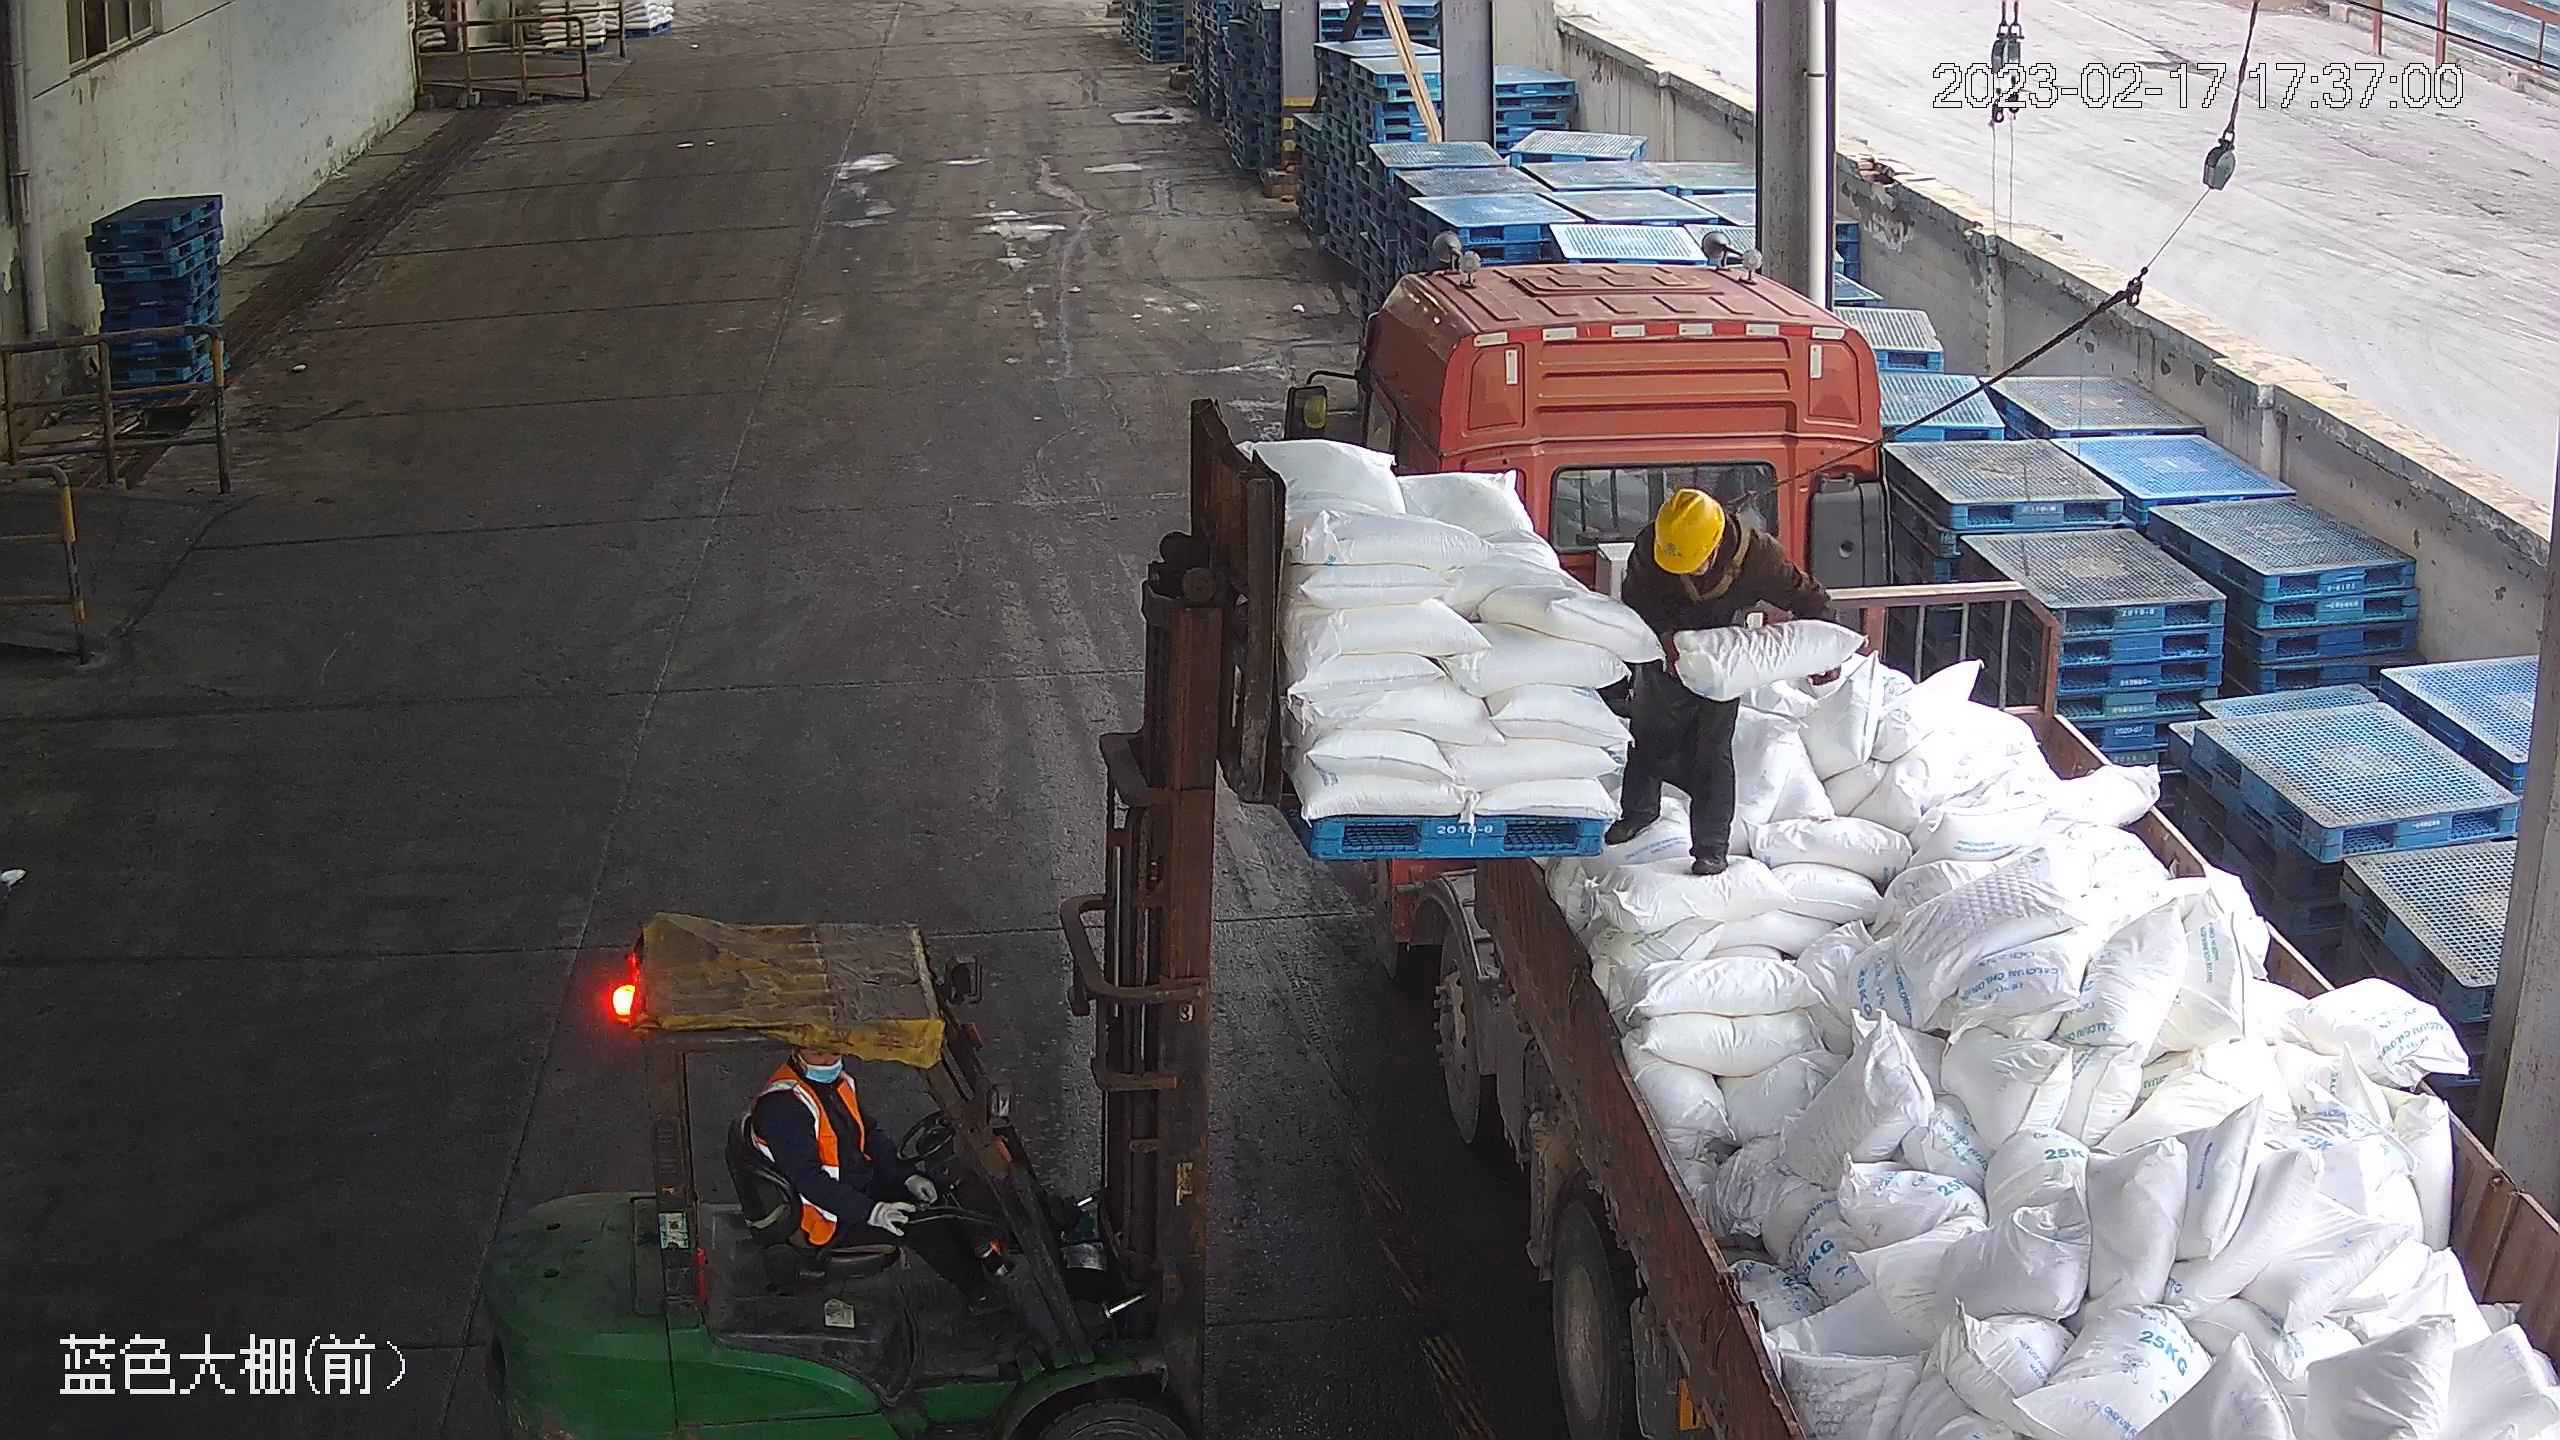belt: (1670, 499, 1756, 601)
head: (1626, 483, 1780, 603), (747, 1043, 878, 1143)
helmet: (1628, 483, 1779, 601), (1649, 483, 1729, 576)
people: (1596, 484, 1839, 884), (739, 1041, 993, 1330)
truck: (1289, 227, 2544, 1440)
